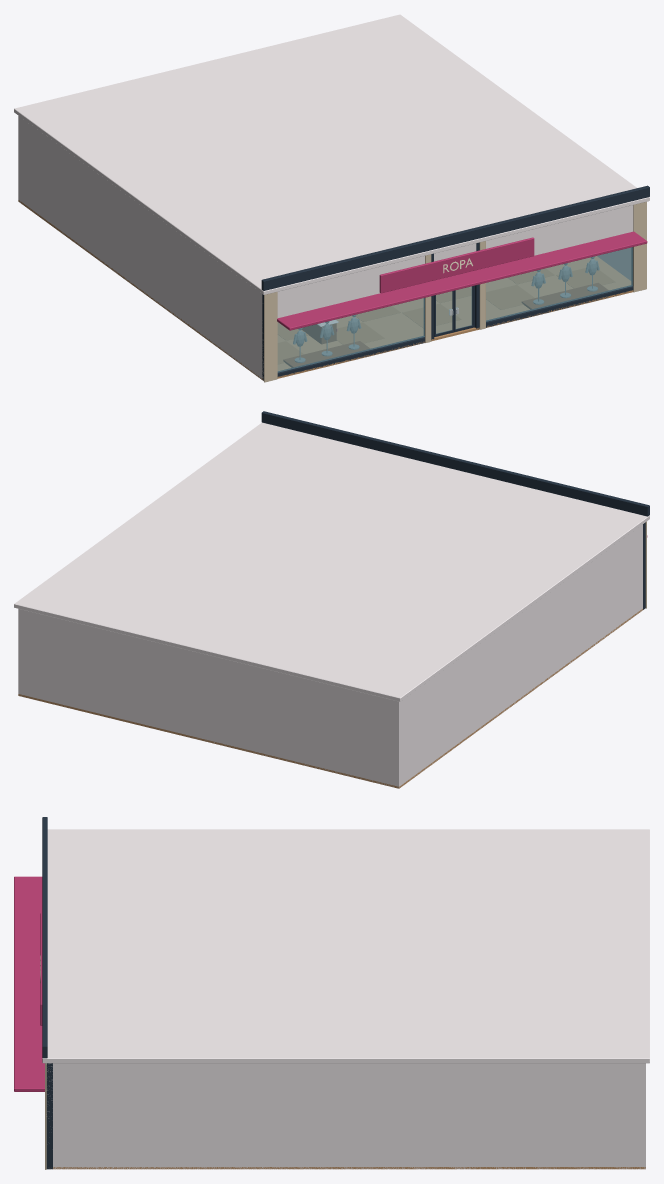
File: Local_Ropa.fbx
The picture shows the model from 3 angles, top to bottom: view 1: azimuth 30°, elevation 25°; view 2: azimuth 150°, elevation 25°; view 3: azimuth 270°, elevation 25°; orthographic projection. The views are drawn at different scales.
Parts seen in each view (by area): view 1: Roof.006, WallSide.011, Floor.005, Storefront.011, Storefront.010, Canopy.004, Parapet, FloorTiles, StoreTop.011, StoreTop.010, SignBoard, Cladding.012 (+8 smaller); view 2: Roof.006, WallBack, WallSide.011, Parapet, Floor.005; view 3: Roof.006, WallSide.010, Canopy.004, Floor.005, Parapet, Pillar.010, WallBack.
Part boxes in pixels (x1,y1,x2,y2): Roof.006: (14, 14, 649, 294); WallSide.011: (18, 116, 263, 380); Floor.005: (18, 200, 633, 380); Storefront.011: (277, 298, 424, 372); Storefront.010: (486, 247, 632, 321); Canopy.004: (277, 231, 647, 330); Parapet: (261, 185, 649, 290); FloorTiles: (278, 268, 614, 364); StoreTop.011: (277, 256, 424, 317); StoreTop.010: (486, 205, 633, 255); SignBoard: (379, 237, 534, 293); Cladding.012: (264, 292, 277, 382); Roof.006: (14, 422, 649, 701); WallBack: (18, 609, 401, 788); WallSide.011: (394, 524, 642, 786); Parapet: (261, 411, 649, 516); Floor.005: (18, 609, 642, 788); Roof.006: (42, 829, 649, 1063); WallSide.010: (47, 1063, 645, 1169); Canopy.004: (14, 876, 44, 1091); Floor.005: (51, 1167, 645, 1169); Parapet: (42, 817, 47, 1058); Pillar.010: (46, 1063, 52, 1169); WallBack: (639, 1063, 645, 1169).
Size of the model in its own units: 20.1 by 5.1 by 23.55.
